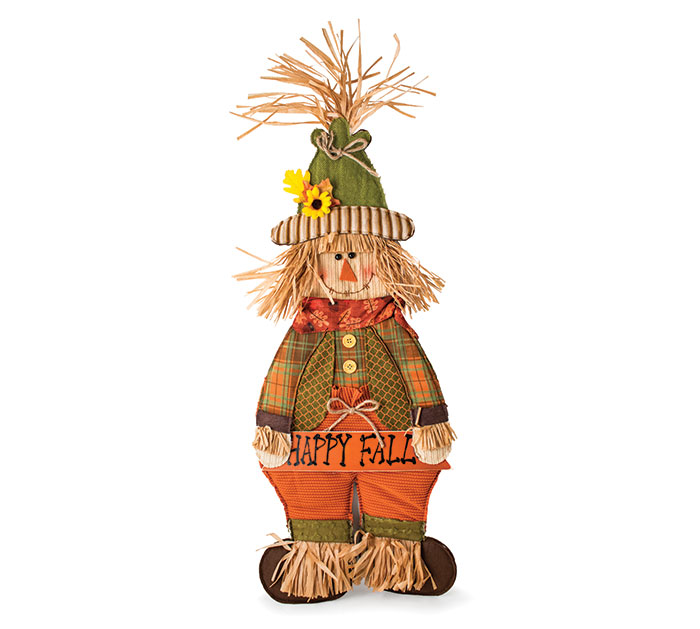person-like: (233, 99, 470, 608)
